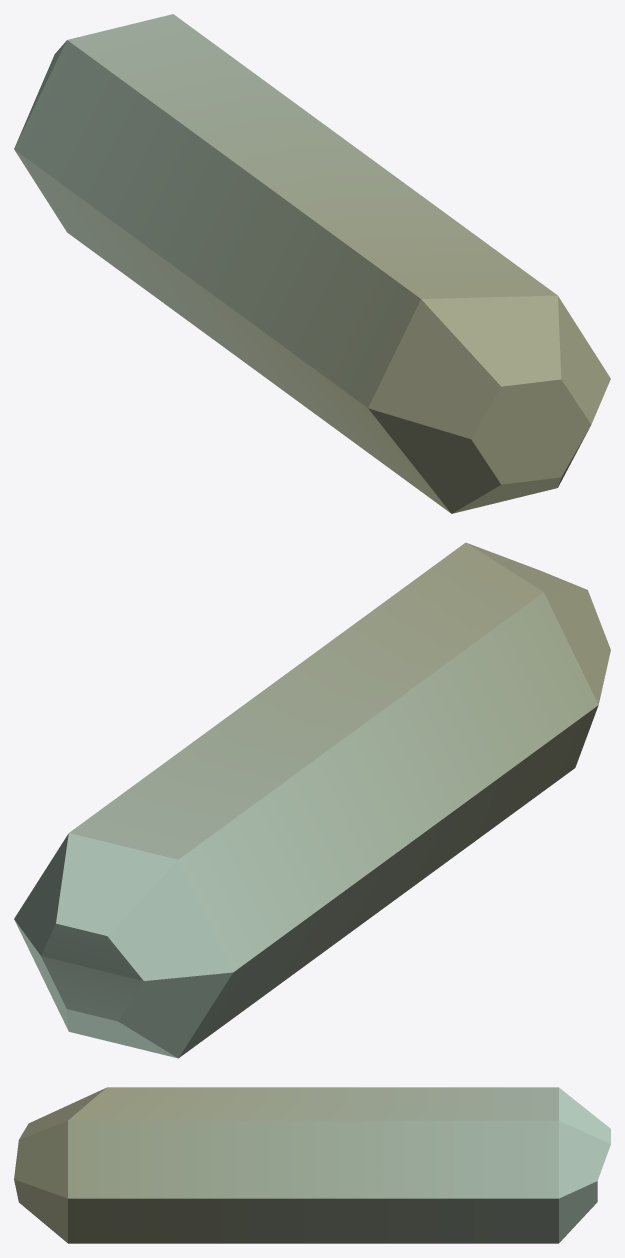
Rendered from ColoredCrystal.003.glb.
The picture shows the model from 3 angles, top to bottom: view 1: azimuth 30°, elevation 25°; view 2: azimuth 150°, elevation 25°; view 3: azimuth 270°, elevation 25°; orthographic projection. The views are drawn at different scales.
Visible parts, largest first — view 1: ColoredCrystal.003; view 2: ColoredCrystal.003; view 3: ColoredCrystal.003.
Boxes of the visible parts, <box> form: ColoredCrystal.003: <box>14,14,610,513</box>; ColoredCrystal.003: <box>14,542,610,1058</box>; ColoredCrystal.003: <box>14,1087,610,1243</box>.
Bounding box in the file's own units: 150 × 130 × 571.
